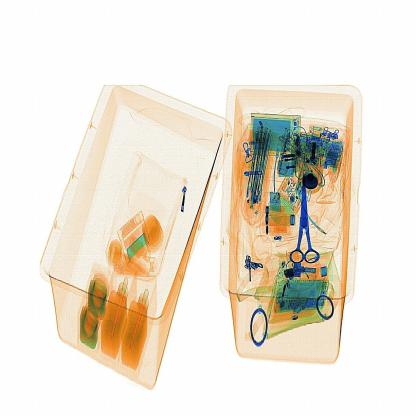gun: (286, 171, 324, 268)
